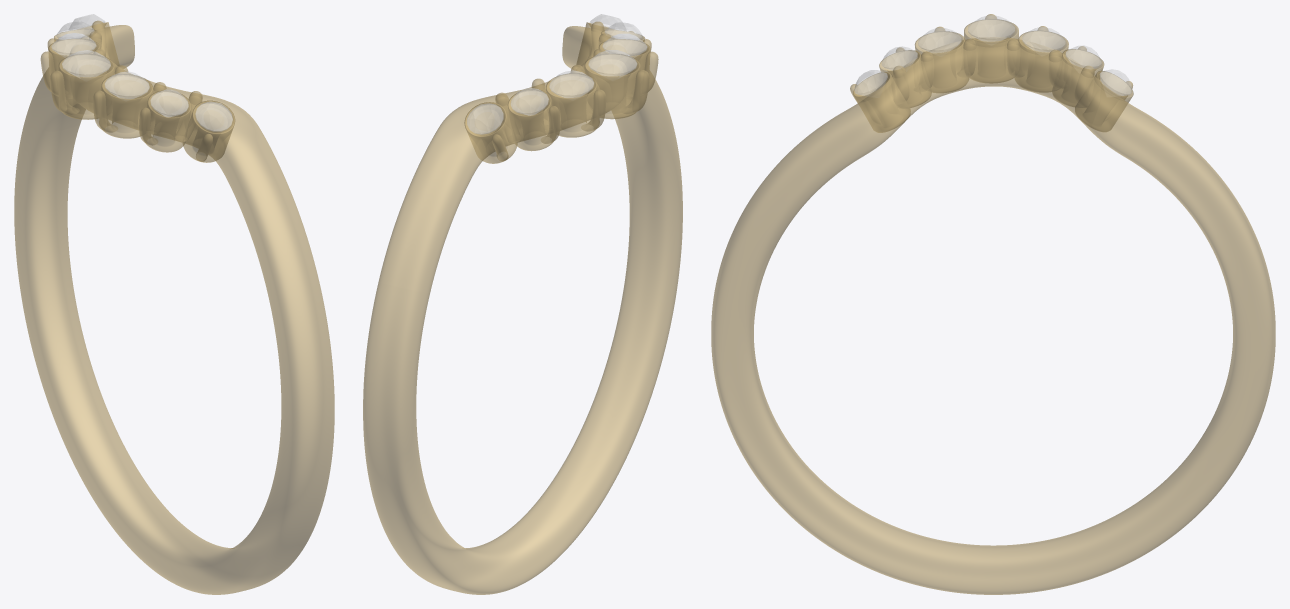
3 views of the same model, side by side, from view 1: azimuth 30°, elevation 25°; view 2: azimuth 150°, elevation 25°; view 3: azimuth 270°, elevation 25° (orthographic). The views are drawn at different scales.
Parts seen in each view (by area): view 1: Ring, Diamond; view 2: Ring, Diamond; view 3: Ring, Diamond.
Part boxes in pixels (x1,y1,x2,y2): Ring: (14, 20, 334, 594); Diamond: (51, 14, 232, 131); Ring: (363, 21, 682, 594); Diamond: (467, 14, 647, 134); Ring: (711, 14, 1275, 594); Diamond: (854, 15, 1131, 95).
Size of the model in its own units: 0.6492 by 2.31 by 2.24.
